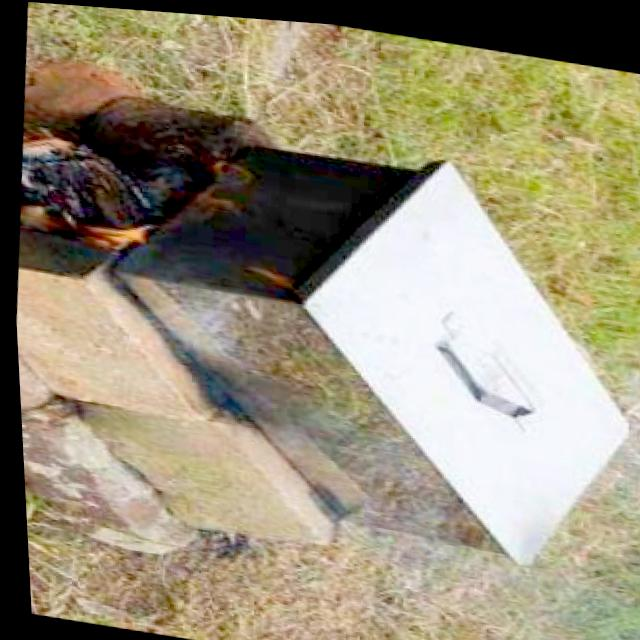helmet: (15, 187, 171, 268), (166, 130, 262, 227)
